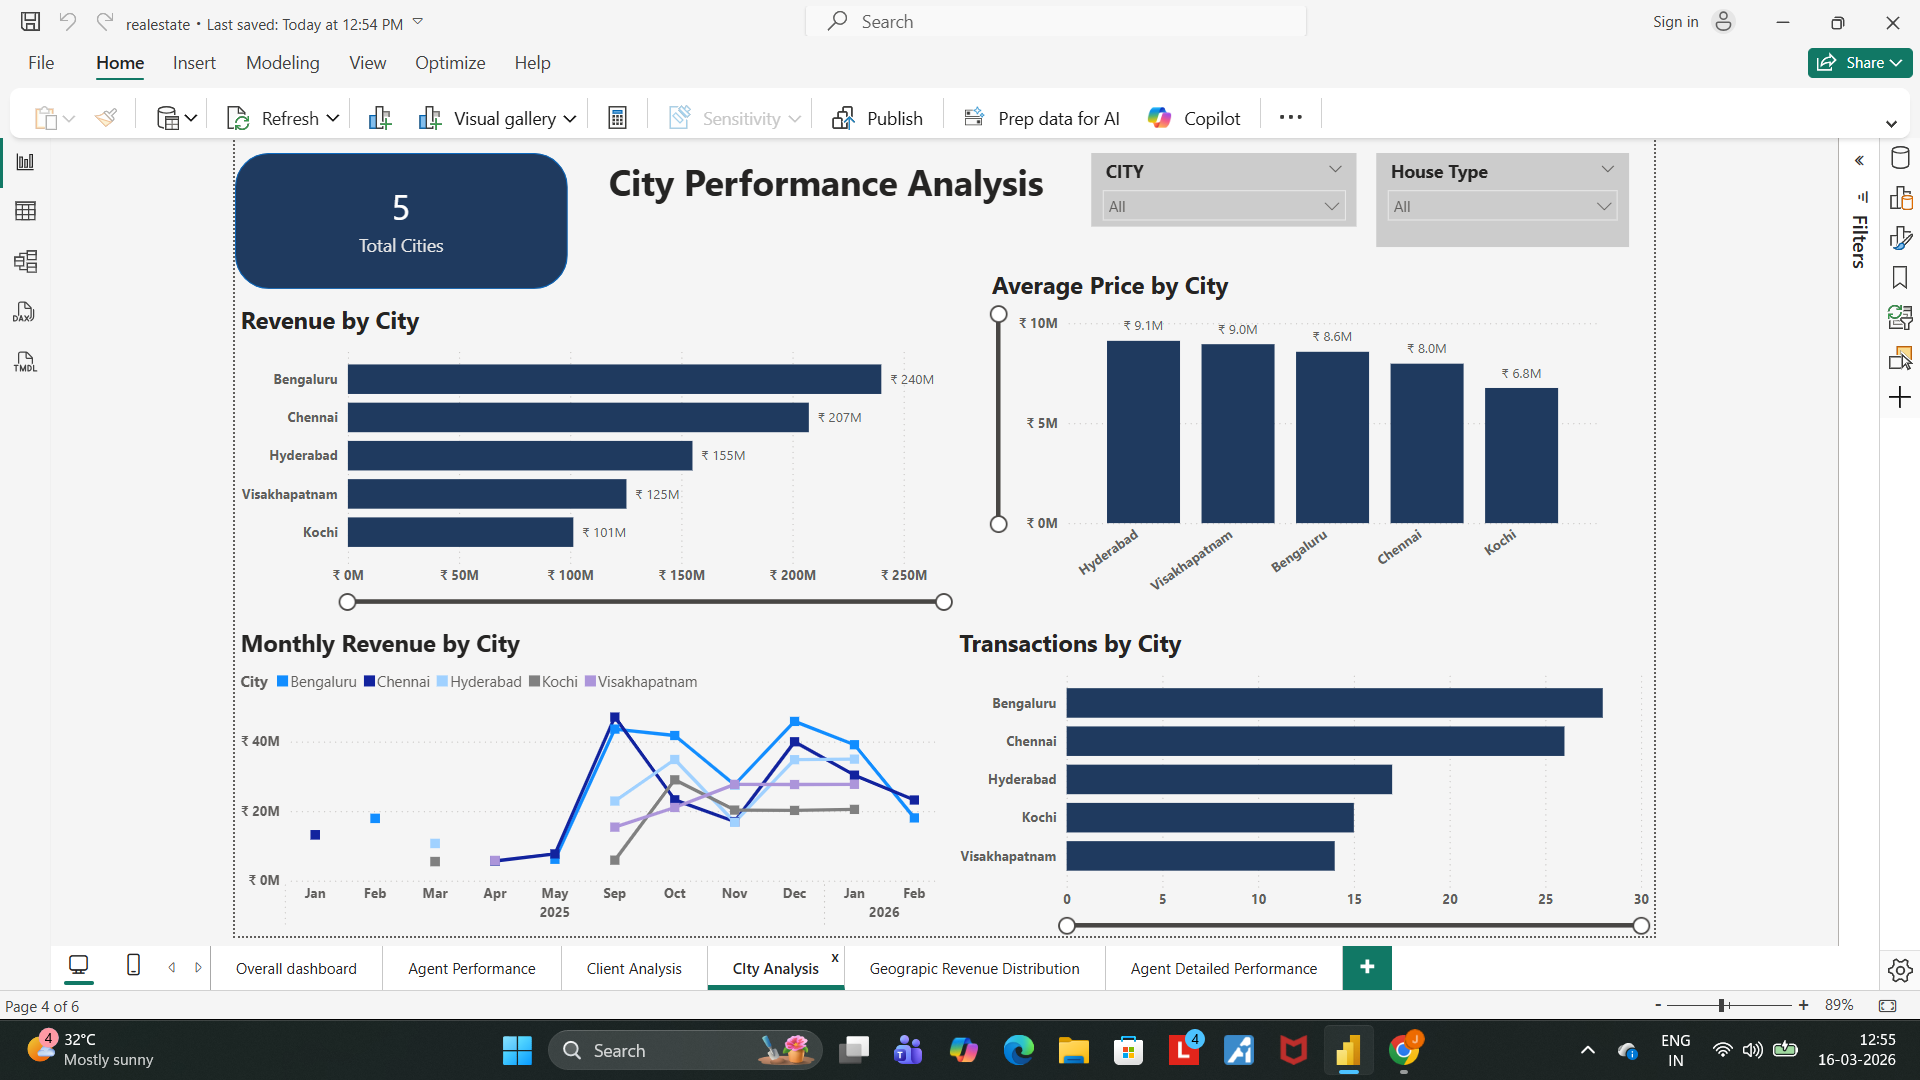

What the dashboard file says about the page in this screenshot:
{"tool":"powerbi","page":{"name":"CIty Analysis","canvas":[1280,720],"ordinal":3},"visuals":[{"type":"clusteredBarChart","title":"Revenue by City","fields":{"Category":["realestate properties.City"],"Y":["measure.Total_Revenue"]},"box":[0,149.3,666.8,279.9],"z":0},{"type":"columnChart","title":"Average Price by City","fields":{"Category":["realestate properties.City"],"Y":["measure.avg_sale_price"]},"box":[678,116.9,557.3,312.2],"z":1000},{"type":"lineChart","title":"Monthly Revenue by City","fields":{"Category":["Calendar.Year","Calendar.Month Name"],"Series":["realestate properties.City"],"Y":["measure.Total_Revenue"]},"box":[0,440.4,639.4,279.9],"z":2000},{"type":"barChart","title":"Transactions by City","fields":{"Category":["realestate properties.City"],"Y":["measure.Total_transactions"]},"box":[648.1,440.4,631.9,279.9],"z":3000},{"type":"shape","box":[0,13,300.1,122.6],"z":4000},{"type":"card","title":"City","fields":{"Values":["measure.City"]},"box":[0,8.7,300.1,127],"z":5000},{"type":"textbox","box":[320.3,13,425.6,85.1],"z":6000},{"type":"slicer","fields":{"Values":["realestate properties.City"]},"box":[771.9,13,239.5,66.4],"z":7000},{"type":"slicer","fields":{"Values":["realestate properties.Type"]},"box":[1028.7,13,228,85.1],"z":8000}]}

Visuals, with their boxes on the page's 1280x720 design canvas (x1, y1, x2, y2). These are canvas units, not pixel positions in the 1920x1080 screenshot, which may show the page scaled, cropped or inside an application window:
"Revenue by City" clusteredBarChart: box(0, 149, 667, 429)
"Average Price by City" columnChart: box(678, 117, 1235, 429)
"Monthly Revenue by City" lineChart: box(0, 440, 639, 720)
"Transactions by City" barChart: box(648, 440, 1280, 720)
shape: box(0, 13, 300, 136)
"City" card: box(0, 9, 300, 136)
textbox: box(320, 13, 746, 98)
slicer - realestate properties.City: box(772, 13, 1011, 79)
slicer - realestate properties.Type: box(1029, 13, 1257, 98)
